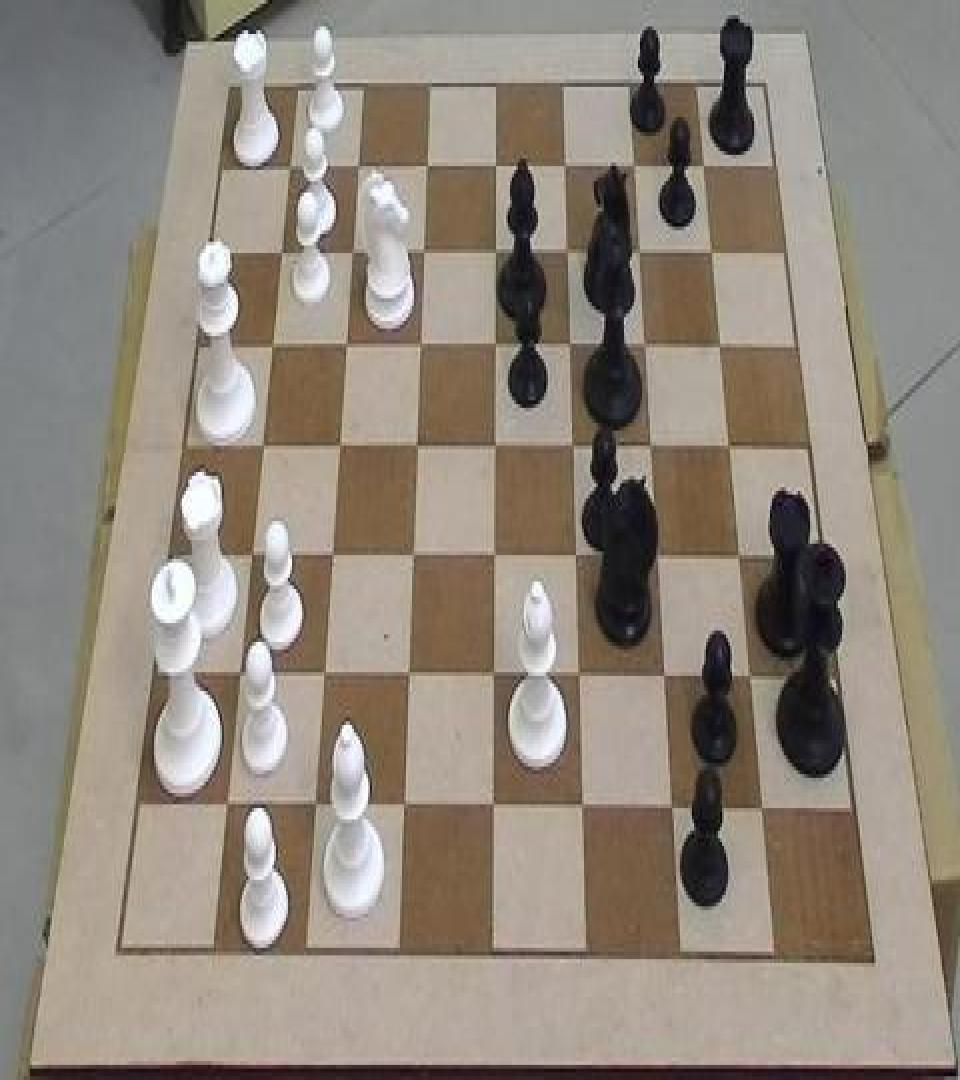xcorner: (411, 330, 431, 369), (336, 330, 356, 369), (261, 330, 281, 369), (695, 147, 715, 185), (626, 149, 646, 187), (556, 149, 576, 187), (487, 149, 507, 187), (418, 149, 438, 187), (349, 149, 369, 187), (279, 149, 299, 187), (703, 234, 723, 272), (631, 234, 651, 272), (559, 236, 579, 274), (487, 236, 507, 274), (415, 236, 435, 274), (343, 236, 363, 274), (271, 236, 291, 274), (711, 328, 731, 366), (636, 328, 656, 366), (561, 328, 581, 366), (486, 328, 506, 366), (720, 430, 740, 468), (642, 430, 662, 468), (564, 430, 584, 468), (485, 430, 505, 468), (407, 430, 427, 468), (329, 430, 349, 468), (251, 432, 271, 470), (730, 540, 750, 578), (648, 540, 668, 578), (566, 542, 586, 580), (485, 542, 505, 580), (403, 542, 423, 580), (322, 542, 342, 580), (241, 542, 261, 580), (740, 660, 760, 698), (655, 660, 675, 698), (569, 660, 589, 698), (484, 660, 504, 698), (399, 662, 419, 700), (314, 662, 334, 700), (229, 662, 249, 700), (752, 793, 772, 831), (662, 793, 682, 831), (573, 793, 593, 831), (483, 793, 503, 831), (394, 795, 414, 833), (305, 795, 325, 833), (216, 795, 236, 833)
